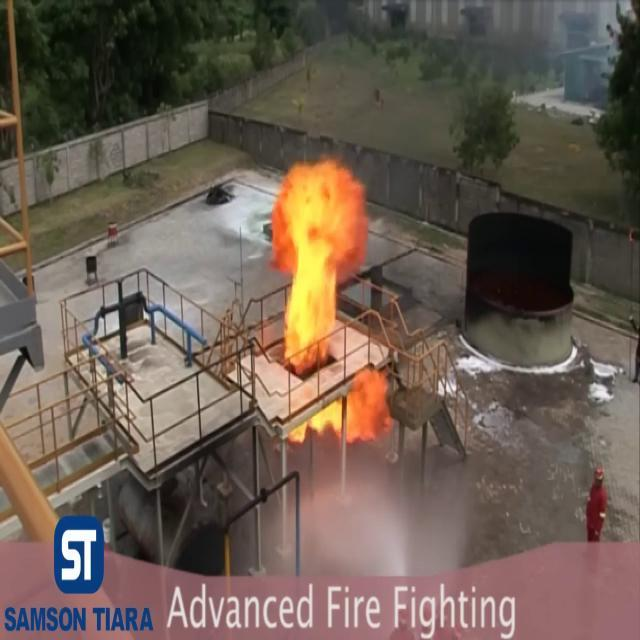Fire: (266, 154, 392, 442)
